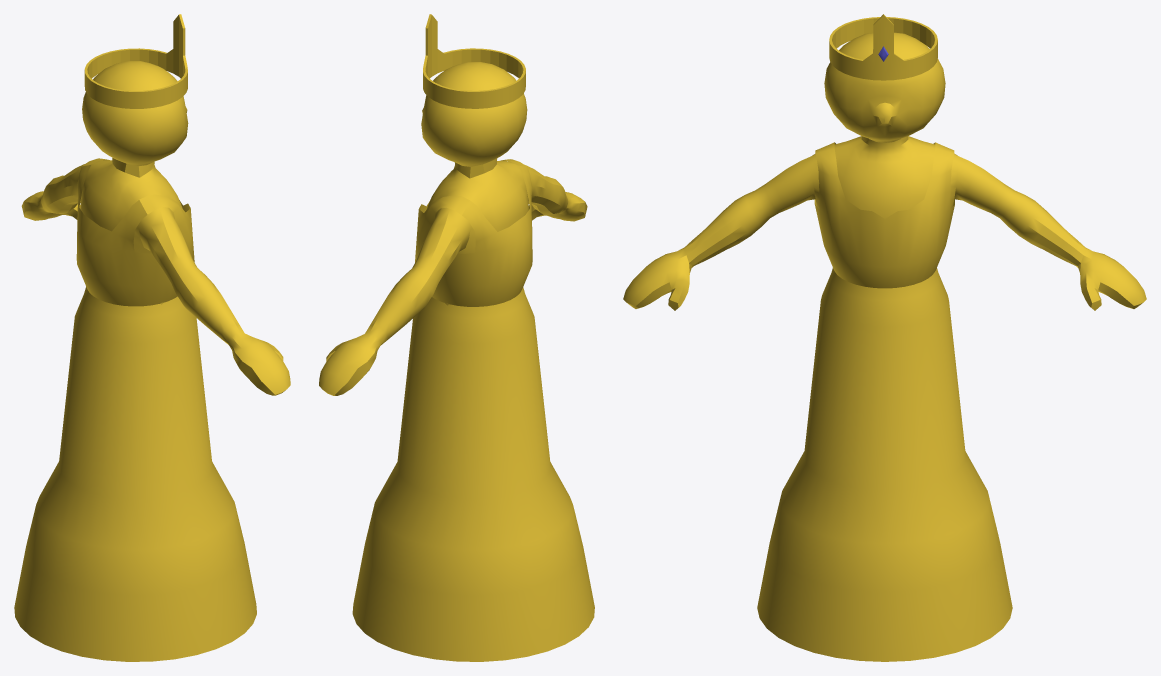
The model's file is Princess.fbx.
3 views of the same model, side by side, from view 1: azimuth 30°, elevation 25°; view 2: azimuth 150°, elevation 25°; view 3: azimuth 270°, elevation 25° (orthographic). The views are drawn at different scales.
Parts seen in each view (by area): view 1: RetopologyBase.019; view 2: RetopologyBase.019; view 3: RetopologyBase.019.
Boxes of the visible parts, left/top/right/bottom form: RetopologyBase.019: left=14, top=14, right=290, bottom=661; RetopologyBase.019: left=319, top=14, right=594, bottom=661; RetopologyBase.019: left=623, top=14, right=1146, bottom=661.
Bounding box in the file's own units: 72.7 × 194 × 149.
